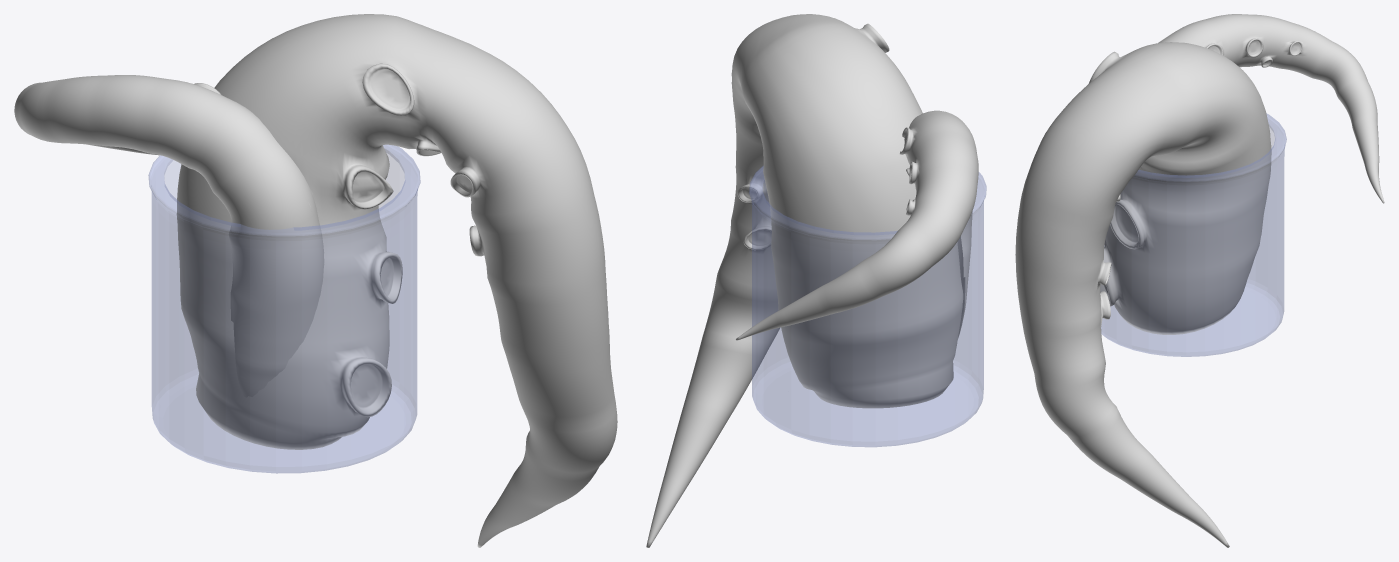
The model's file is Tentacles_Cup.fbx.
3 views of the same model, side by side, from view 1: azimuth 30°, elevation 25°; view 2: azimuth 150°, elevation 25°; view 3: azimuth 270°, elevation 25° (orthographic). The views are drawn at different scales.
Parts seen in each view (by area): view 1: BezierCurve.000, Cylinder, BezierCurve.004; view 2: BezierCurve.000, Cylinder, BezierCurve.004; view 3: BezierCurve.000, Cylinder, BezierCurve.004.
Boxes of the visible parts, left/top/right/bottom form: BezierCurve.000: left=176, top=14, right=617, bottom=547; Cylinder: left=148, top=145, right=420, bottom=473; BezierCurve.004: left=14, top=75, right=324, bottom=397; BezierCurve.000: left=646, top=14, right=963, bottom=547; Cylinder: left=749, top=166, right=986, bottom=446; BezierCurve.004: left=736, top=110, right=978, bottom=340; BezierCurve.000: left=1015, top=42, right=1271, bottom=547; Cylinder: left=1100, top=113, right=1286, bottom=356; BezierCurve.004: left=1158, top=14, right=1384, bottom=203.
Size of the model in its own units: 372 by 494 by 376.
